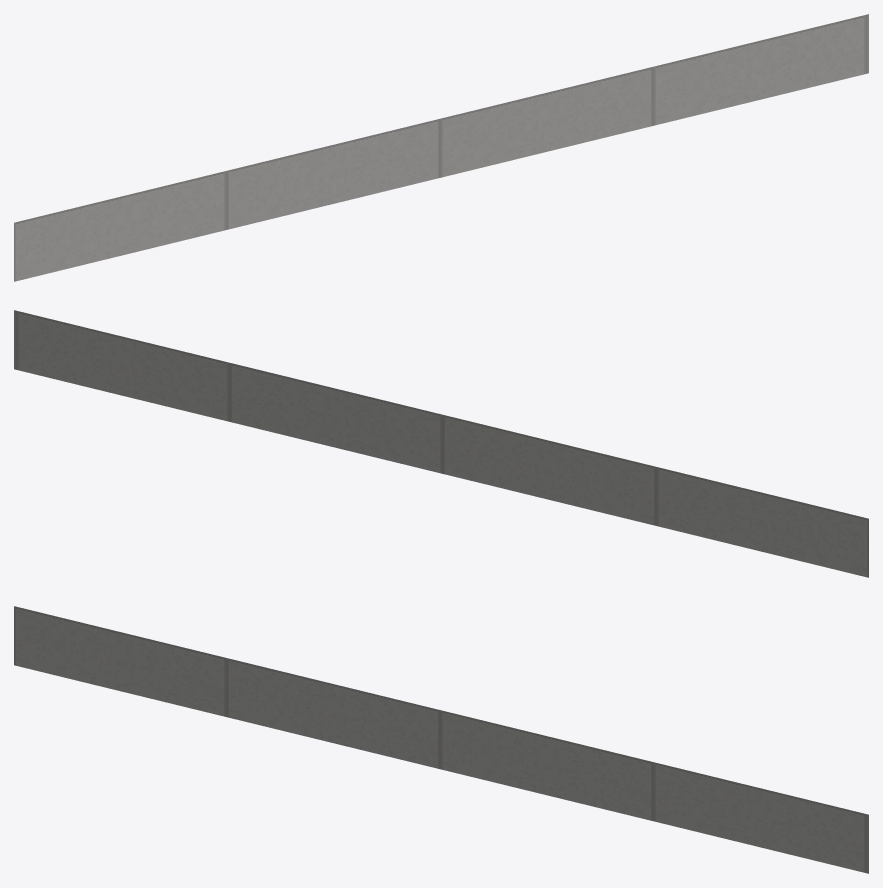
File: kd_stage_135ded_4_129_exterior_piece_9.glb
3 renders of one model, top to bottom at view 1: azimuth 30°, elevation 25°; view 2: azimuth 150°, elevation 25°; view 3: azimuth 330°, elevation 25°, orthographic.
Parts seen in each view (by area): view 1: kd_stage_135ded_4_129_exterior_piece_9; view 2: kd_stage_135ded_4_129_exterior_piece_9; view 3: kd_stage_135ded_4_129_exterior_piece_9.
Boxes of the visible parts, x1,y1,x2,y2 form: kd_stage_135ded_4_129_exterior_piece_9: (14, 14, 868, 281); kd_stage_135ded_4_129_exterior_piece_9: (14, 310, 868, 577); kd_stage_135ded_4_129_exterior_piece_9: (14, 606, 868, 873).
Size of the model in its own units: 4.53 by 0.3 by 9.54e-07.
1 material, 1 textured.
